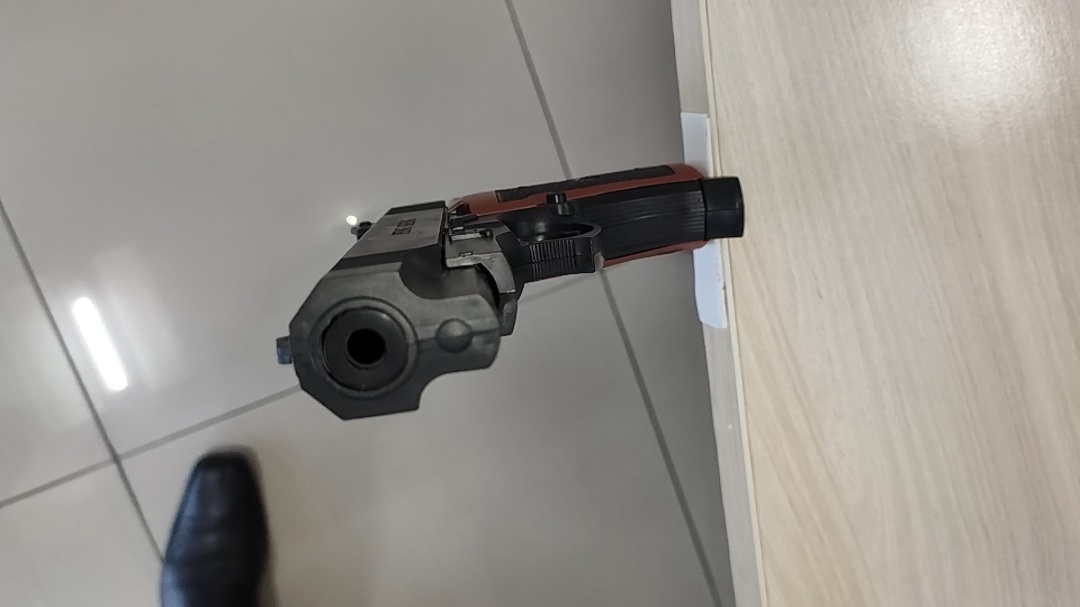gun: (280, 163, 745, 422)
